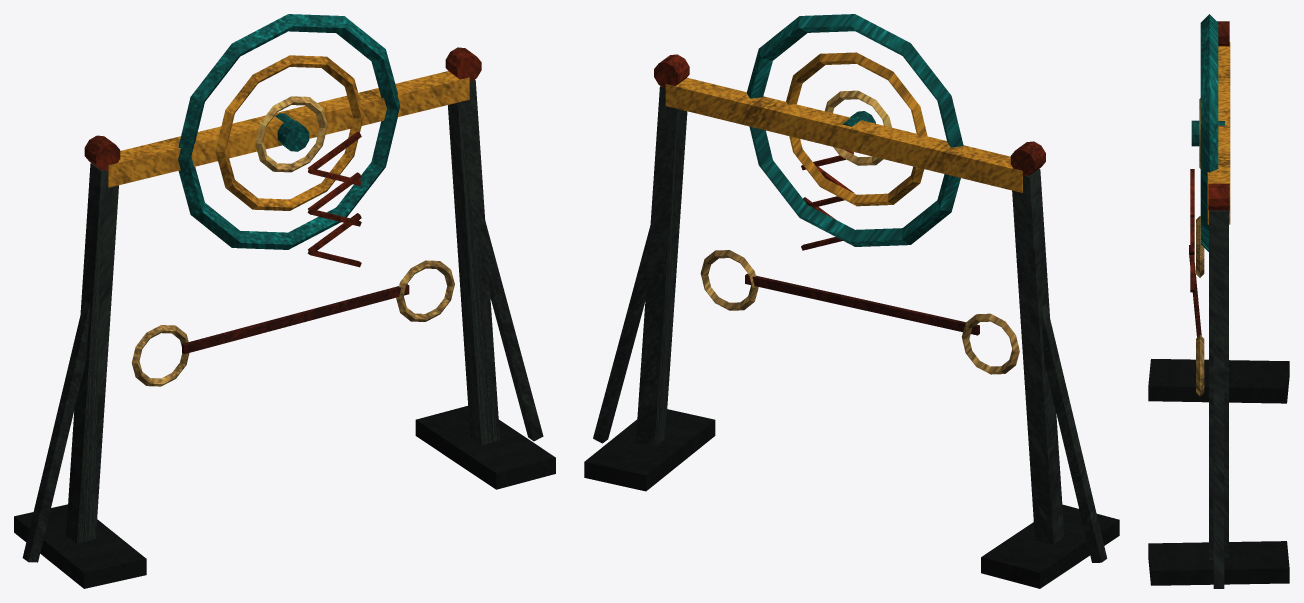
File: north-return-gate.glb
3 views of the same model, side by side, from view 1: azimuth 30°, elevation 25°; view 2: azimuth 150°, elevation 25°; view 3: azimuth 270°, elevation 25° (orthographic). The views are drawn at different scales.
Visible parts, largest first — view 1: north-return-gate; view 2: north-return-gate; view 3: north-return-gate.
Boxes of the visible parts, x1,y1,x2,y2 form: north-return-gate: (14,14,555,588); north-return-gate: (584,14,1119,588); north-return-gate: (1148,14,1289,588).
Bounding box in the file's own units: 9.27 × 8.5 × 2.39.
Materials: 1 (1 with a texture image).
